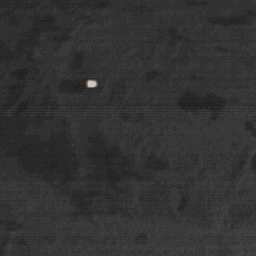Target: (84, 79, 99, 89)
